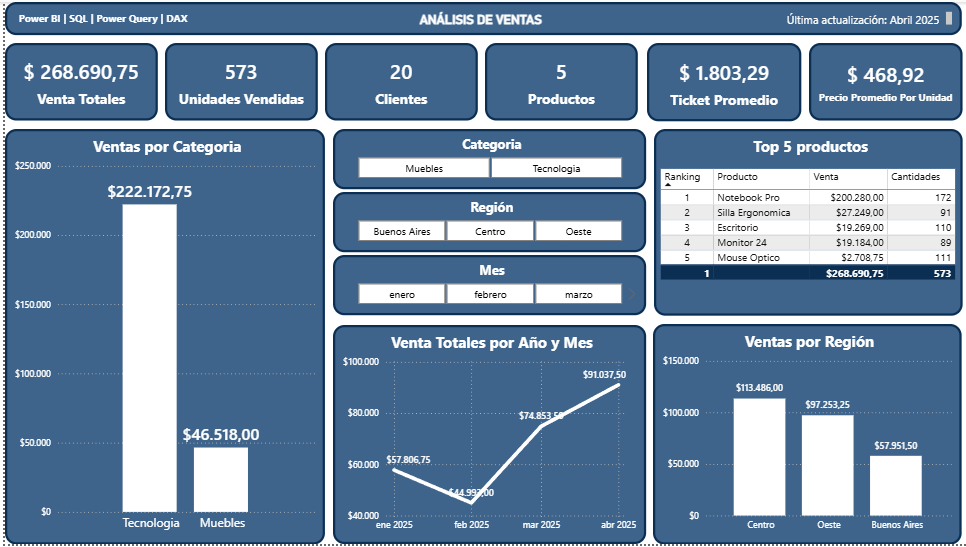

This screenshot's page, from the dashboard's own definition file:
{"tool":"powerbi","page":{"name":"Página 1","canvas":[1280,720],"ordinal":0},"visuals":[{"type":"card","fields":{"Values":["Medidas.Venta Totales"]},"box":[0,55,202.5,102.5],"z":0},{"type":"card","fields":{"Values":["Medidas.Unidades Vendidas"]},"box":[212.5,55,202.5,102.5],"z":1000},{"type":"card","fields":{"Values":["Medidas.Productos Vendidos"]},"box":[637.5,55,202.5,102.5],"z":2000},{"type":"card","fields":{"Values":["Medidas.Ticket Promedio"]},"box":[852.5,55,205,103.8],"z":3000},{"type":"card","fields":{"Values":["Medidas.Precio Promedio Por Unidad"]},"box":[1067.5,55,203.8,102.5],"z":4000},{"type":"card","fields":{"Values":["Medidas.Clientes Distintos"]},"box":[425,55,202.5,102.5],"z":5000},{"type":"columnChart","title":"Ventas por Categoria","fields":{"Category":["products.Category"],"Y":["Medidas.Venta Totales"]},"box":[0,168.3,425,551.7],"z":6000},{"type":"columnChart","title":"Ventas por Región","fields":{"Category":["customers.Region"],"Y":["Medidas.Venta Totales"]},"box":[861.2,427.5,410,292.5],"z":7000},{"type":"lineChart","fields":{"Y":["Medidas.Venta Totales"],"Category":["sales.Date.Variación.Jerarquía de fechas.Año","sales.Date.Variación.Jerarquía de fechas.Mes"]},"box":[436.2,428.8,416.2,291.2],"z":8000},{"type":"tableEx","title":"Top 5 productos","fields":{"Values":["Medidas.Ranking Productos","products.ProductName","Medidas.Venta Totales","Medidas.Unidades Vendidas"]},"box":[861.7,168.3,410,248.3],"z":9000},{"type":"slicer","title":"Categoria","fields":{"Values":["products.Category"]},"box":[436,169,416,80],"z":10000},{"type":"slicer","title":"Región","fields":{"Values":["customers.Region"]},"box":[436,252,416,80],"z":11000},{"type":"slicer","title":"Mes","fields":{"Values":["sales.Date.Variación.Jerarquía de fechas.Mes"]},"box":[436.2,336.2,416.2,80],"z":12000},{"type":"textbox","box":[0,0,1271.2,43.8],"z":13000},{"type":"textbox","box":[13.3,8,245.8,31.9],"z":14000},{"type":"textbox","box":[1033.5,8,213.9,30.6],"z":15000}]}

Visuals, with their boxes in screenshot pixels (x1, y1, x2, y2), scaled from the page's 1280x720 canvas onto the 966x547 screenshot:
card - Medidas.Venta Totales: box=[0, 42, 153, 120]
card - Medidas.Unidades Vendidas: box=[160, 42, 313, 120]
card - Medidas.Productos Vendidos: box=[481, 42, 634, 120]
card - Medidas.Ticket Promedio: box=[643, 42, 798, 121]
card - Medidas.Precio Promedio Por Unidad: box=[806, 42, 959, 120]
card - Medidas.Clientes Distintos: box=[321, 42, 474, 120]
"Ventas por Categoria" columnChart: box=[0, 128, 321, 546]
"Ventas por Región" columnChart: box=[650, 325, 959, 546]
lineChart - Medidas.Venta Totales x sales.Date.Variación.Jerarquía de fechas.Año: box=[329, 326, 643, 546]
"Top 5 productos" tableEx: box=[650, 128, 960, 317]
"Categoria" slicer: box=[329, 128, 643, 189]
"Región" slicer: box=[329, 191, 643, 252]
"Mes" slicer: box=[329, 255, 643, 316]
textbox: box=[0, 0, 959, 33]
textbox: box=[10, 6, 196, 30]
textbox: box=[780, 6, 941, 29]
